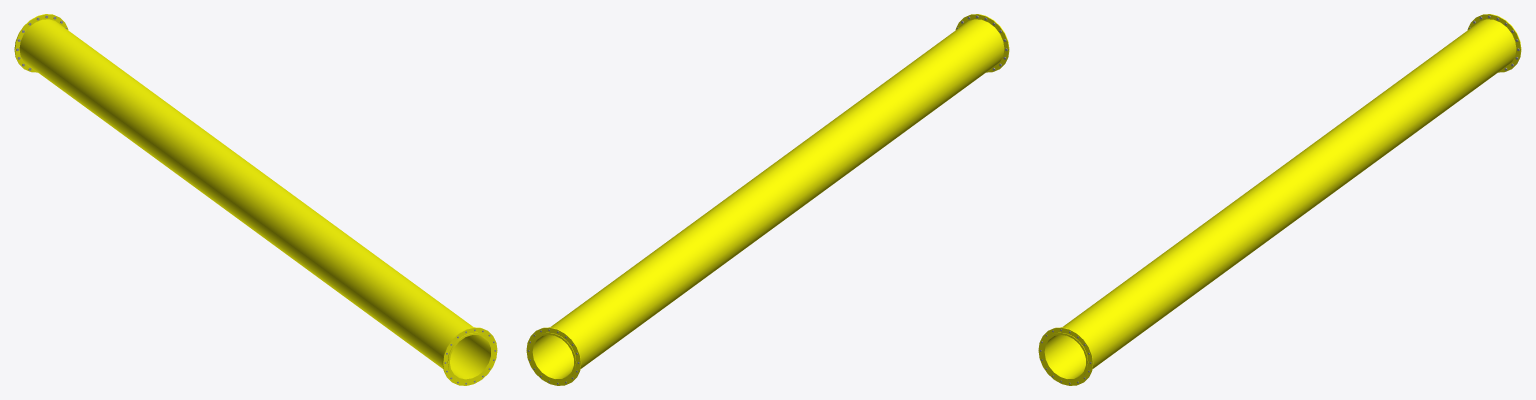
File: straight.obj
The picture shows the model from 3 angles, left to right: view 1: azimuth 30°, elevation 25°; view 2: azimuth 150°, elevation 25°; view 3: azimuth 330°, elevation 25°; orthographic projection.
Visible parts, largest first — view 1: Pipe; view 2: Pipe; view 3: Pipe.
Part boxes in pixels (x1,y1,x2,y2): Pipe: (14, 14, 497, 385); Pipe: (526, 14, 1009, 385); Pipe: (1038, 14, 1521, 385).
Bounding box in the file's own units: 0.7315 × 0.7241 × 10.
Materials: 2 (1 with a texture image).
